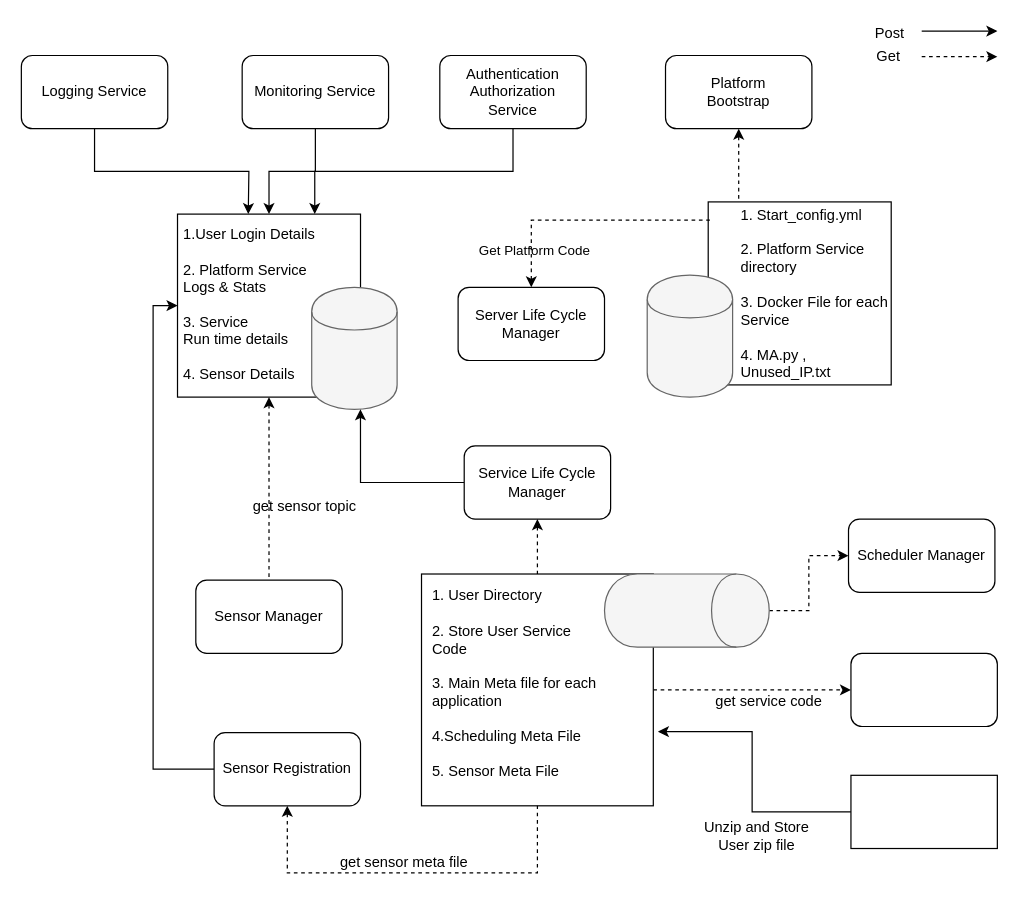
The diagram is 1028 pixels wide and 904 high, and some of its shapes have lost their labels. Here are the shapes that lost their labels. From the top down, the centre of each, then its label:
the point at 353,347: Registry
the point at 689,335: Platform Repository
the point at 686,610: User Repository
the point at 923,689: Deployment Manager
the point at 923,811: Request Manager
